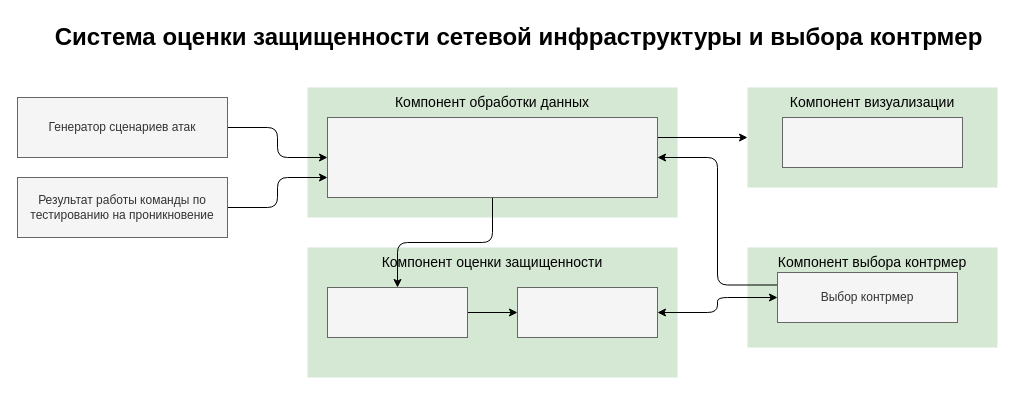
This 1015x394 diagram has some shape labels left out. The centre of each missing label's shape, as x and y in pixels:
"Визуализация графа" belongs at [872,142].
"Генератор графа атак" belongs at [492,157].
"Предвычисления" belongs at [397,312].
"Сравнительная оценка риска" belongs at [587,312].
